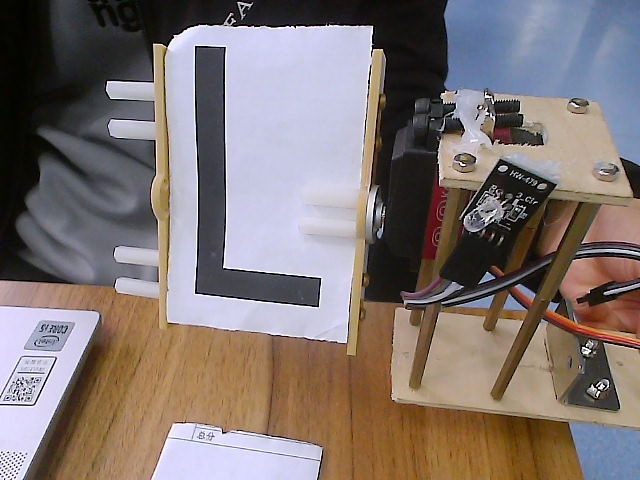L: (88, 14, 433, 372)
